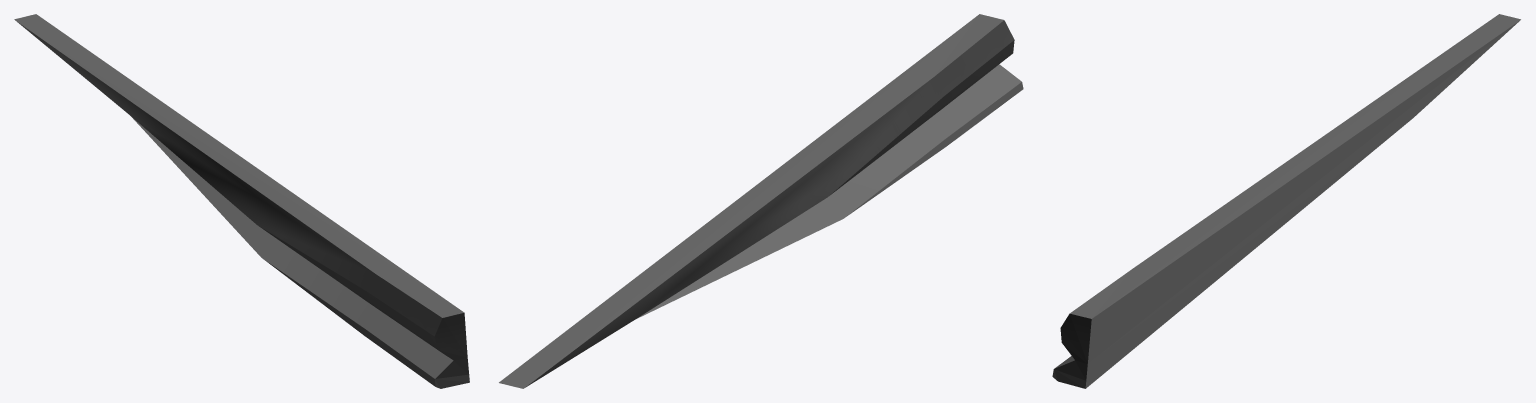
File: Muscle_1_Sidepanel_2_L.fbx
3 views of the same model, side by side, from view 1: azimuth 30°, elevation 25°; view 2: azimuth 150°, elevation 25°; view 3: azimuth 330°, elevation 25° (orthographic). The views are drawn at different scales.
Parts seen in each view (by area): view 1: Muscle_1_Sidepanel_2_L; view 2: Muscle_1_Sidepanel_2_L; view 3: Muscle_1_Sidepanel_2_L.
Boxes of the visible parts, x1,y1,x2,y2 form: Muscle_1_Sidepanel_2_L: (14,14,469,388); Muscle_1_Sidepanel_2_L: (499,14,1023,388); Muscle_1_Sidepanel_2_L: (1052,14,1520,388).
Size of the model in its own units: 3.9 by 5.92 by 70.93.
